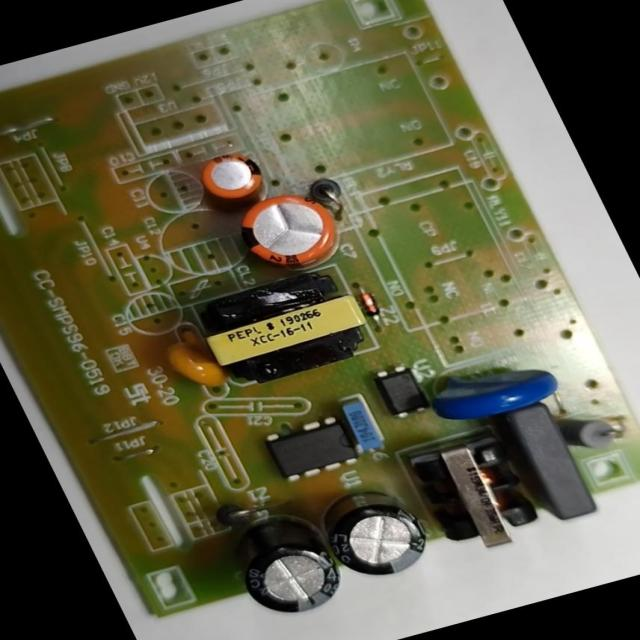Cap1: (212, 176, 367, 285)
Cap2: (177, 134, 287, 216)
Cap3: (304, 469, 450, 590)
Cap4: (205, 487, 362, 628)
MOSFET: (255, 408, 374, 488)
Mov: (414, 343, 577, 434)
Resistor: (548, 396, 637, 462)
Transformer: (169, 258, 387, 396), (396, 418, 559, 564)
